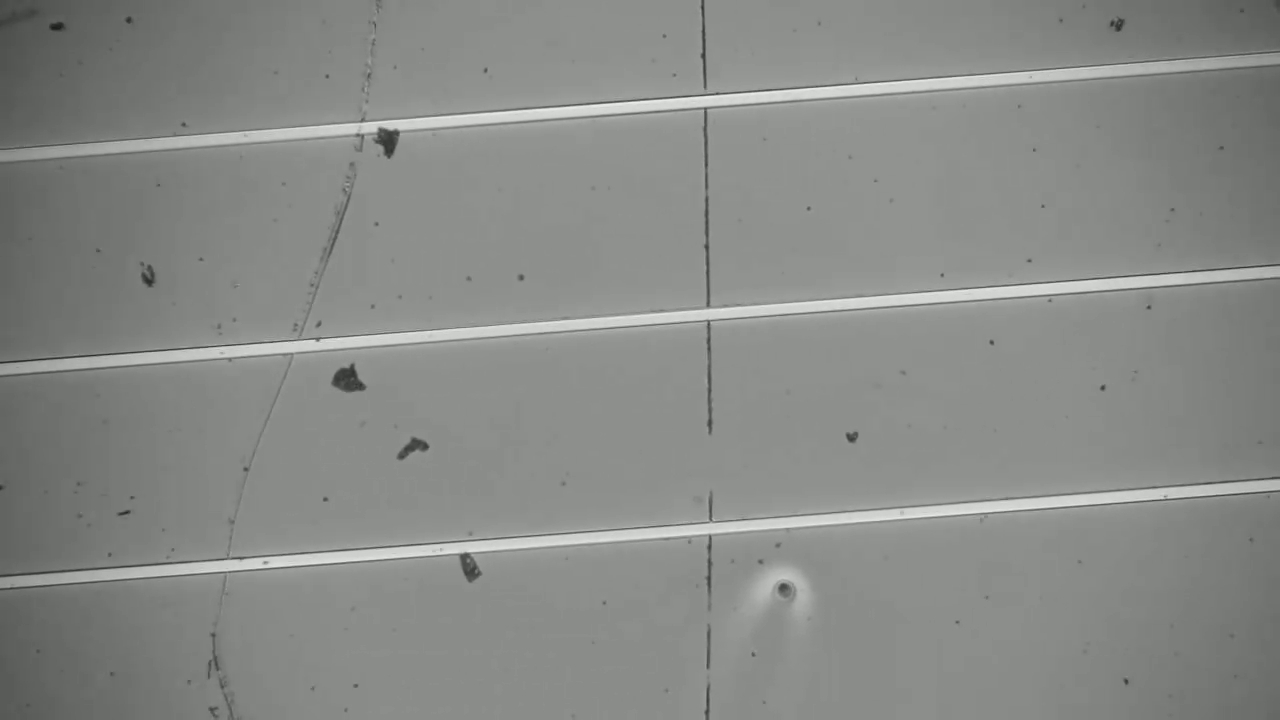scratch: (199, 19, 392, 719), (688, 6, 751, 716)
